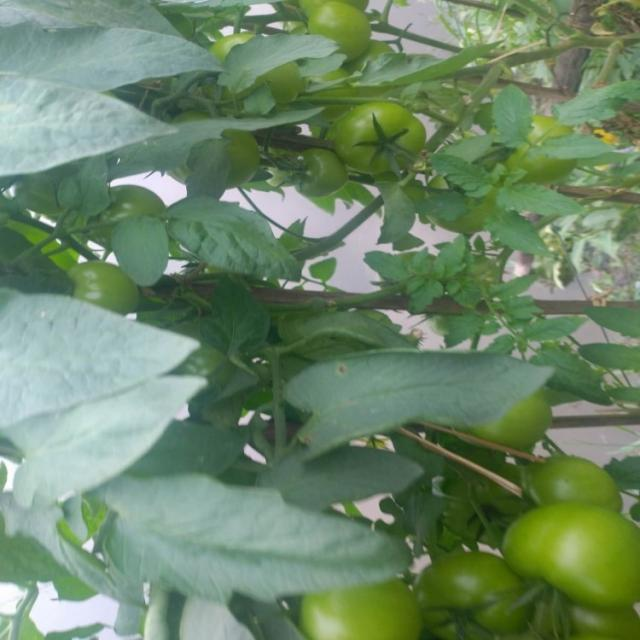tomato: (506, 498, 640, 608), (416, 544, 530, 640), (296, 561, 419, 640), (325, 94, 429, 173), (520, 442, 628, 515), (523, 578, 640, 640), (508, 101, 589, 188), (291, 1, 380, 63), (59, 258, 145, 316), (481, 393, 553, 451), (100, 174, 165, 231), (211, 125, 270, 180), (293, 154, 351, 194)
